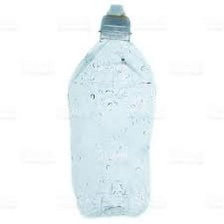bottle: (60, 1, 166, 222)
